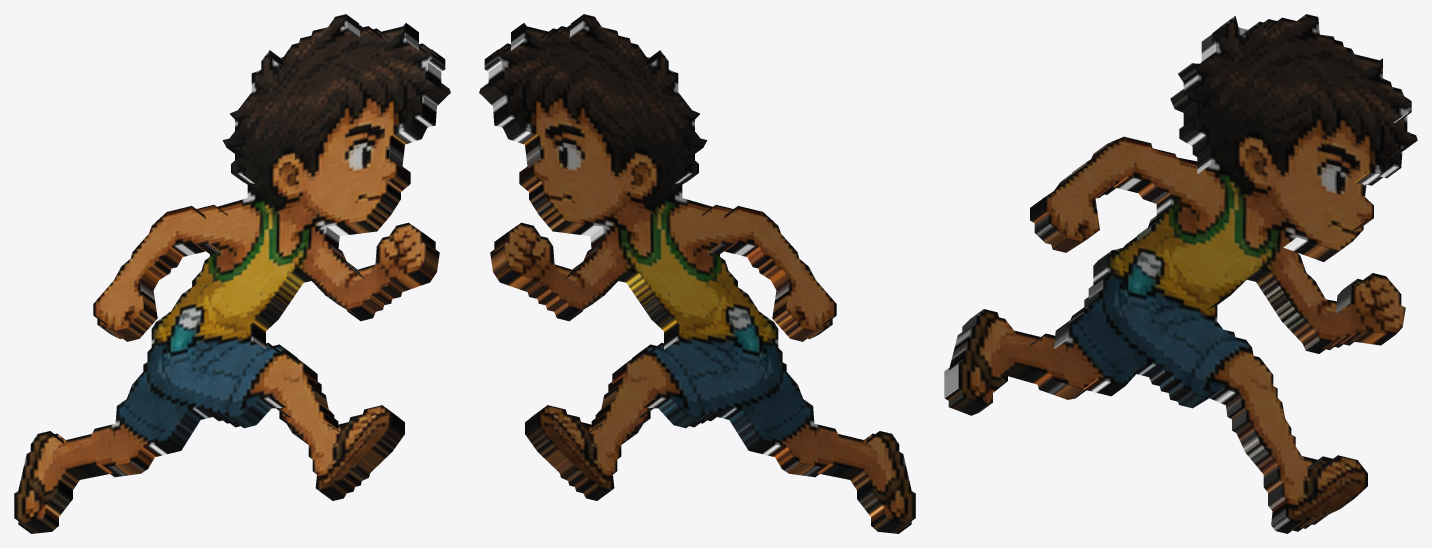
The model's file is run.glb.
3 views of the same model, side by side, from view 1: azimuth 30°, elevation 25°; view 2: azimuth 150°, elevation 25°; view 3: azimuth 330°, elevation 25° (orthographic). The views are drawn at different scales.
Visible parts, largest first — view 1: world; view 2: world; view 3: world.
Part boxes in pixels (x1,y1,x2,y2): world: [14, 14, 450, 533]; world: [479, 14, 915, 533]; world: [944, 14, 1417, 533].
Bounding box in the file's own units: 3.05 × 3.24 × 0.1625.
1 material, 1 textured.
